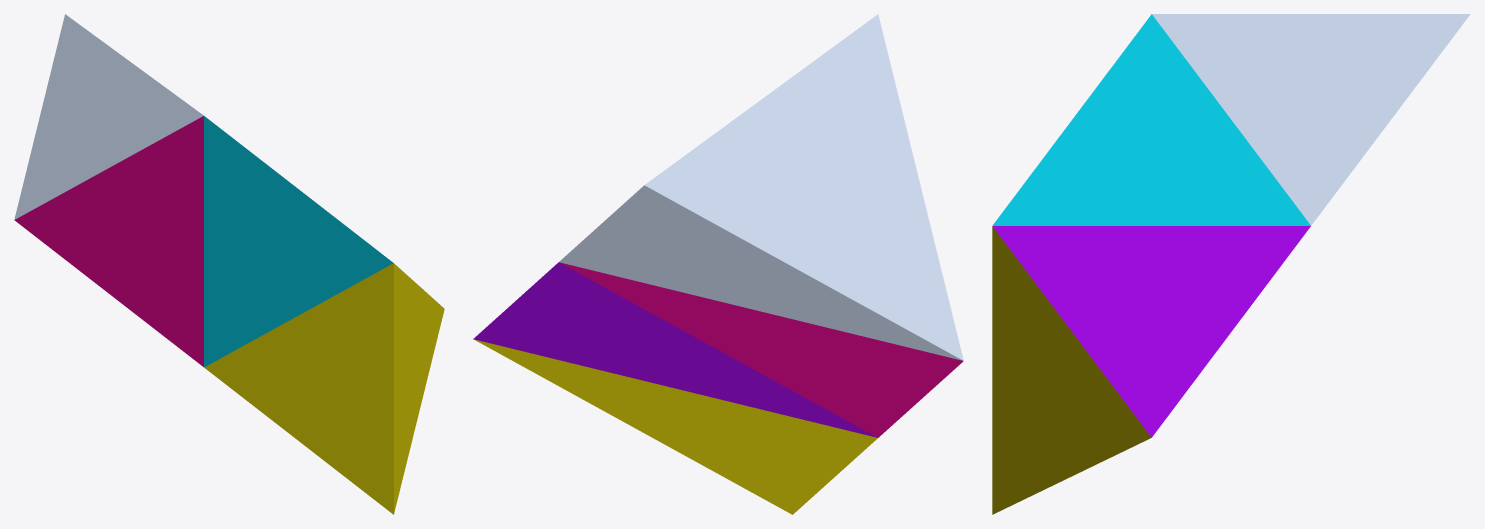
The model's file is TetragonalDisphenoidal_3.glb.
The picture shows the model from 3 angles, left to right: view 1: azimuth 30°, elevation 25°; view 2: azimuth 150°, elevation 25°; view 3: azimuth 270°, elevation 25°; orthographic projection. The views are drawn at different scales.
Bounding box in the file's own units: 6 × 6 × 6.
